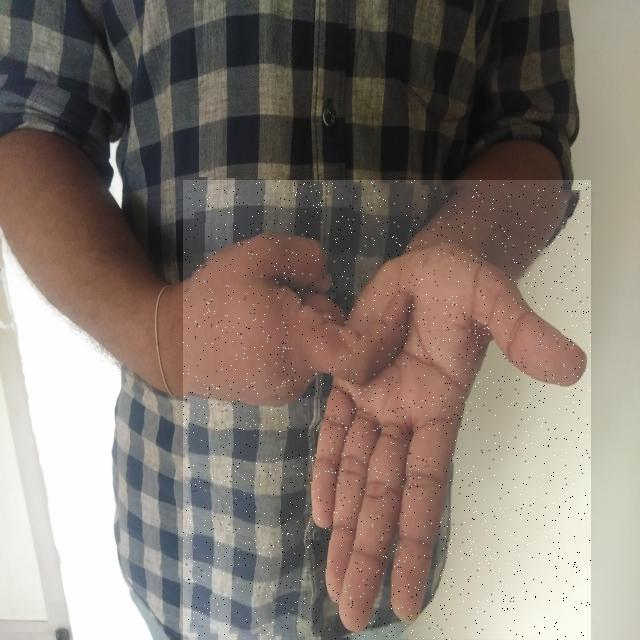R: (183, 180, 591, 640)
